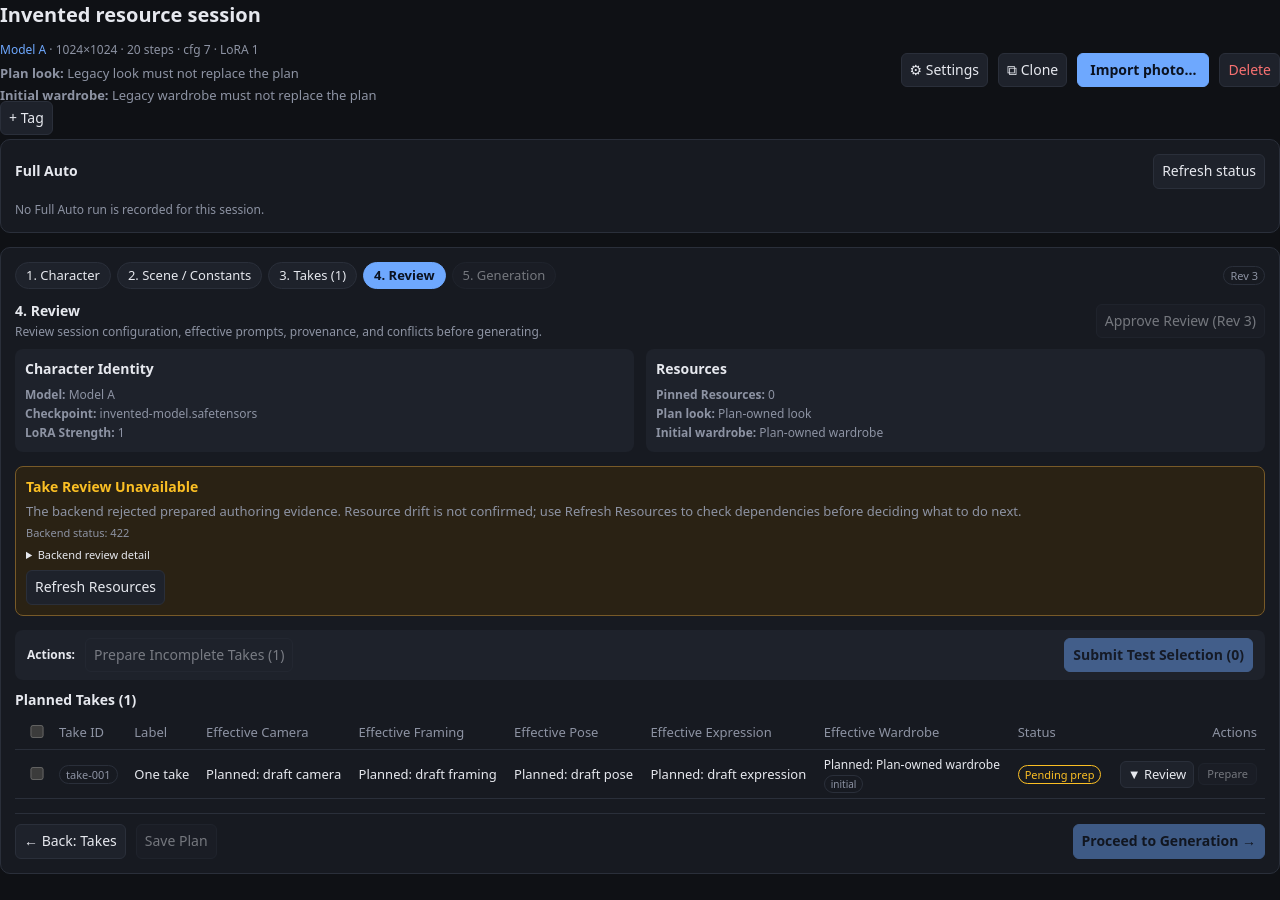
Test: Task 8.5 resource review presentation › checks dependencies only for confirmed invalid authoring evidence and keeps review gates closed
The width and height of the screenshot is (1280, 900).
Click the button "Refresh Resources" at [96, 588], box [26,570,165,605]
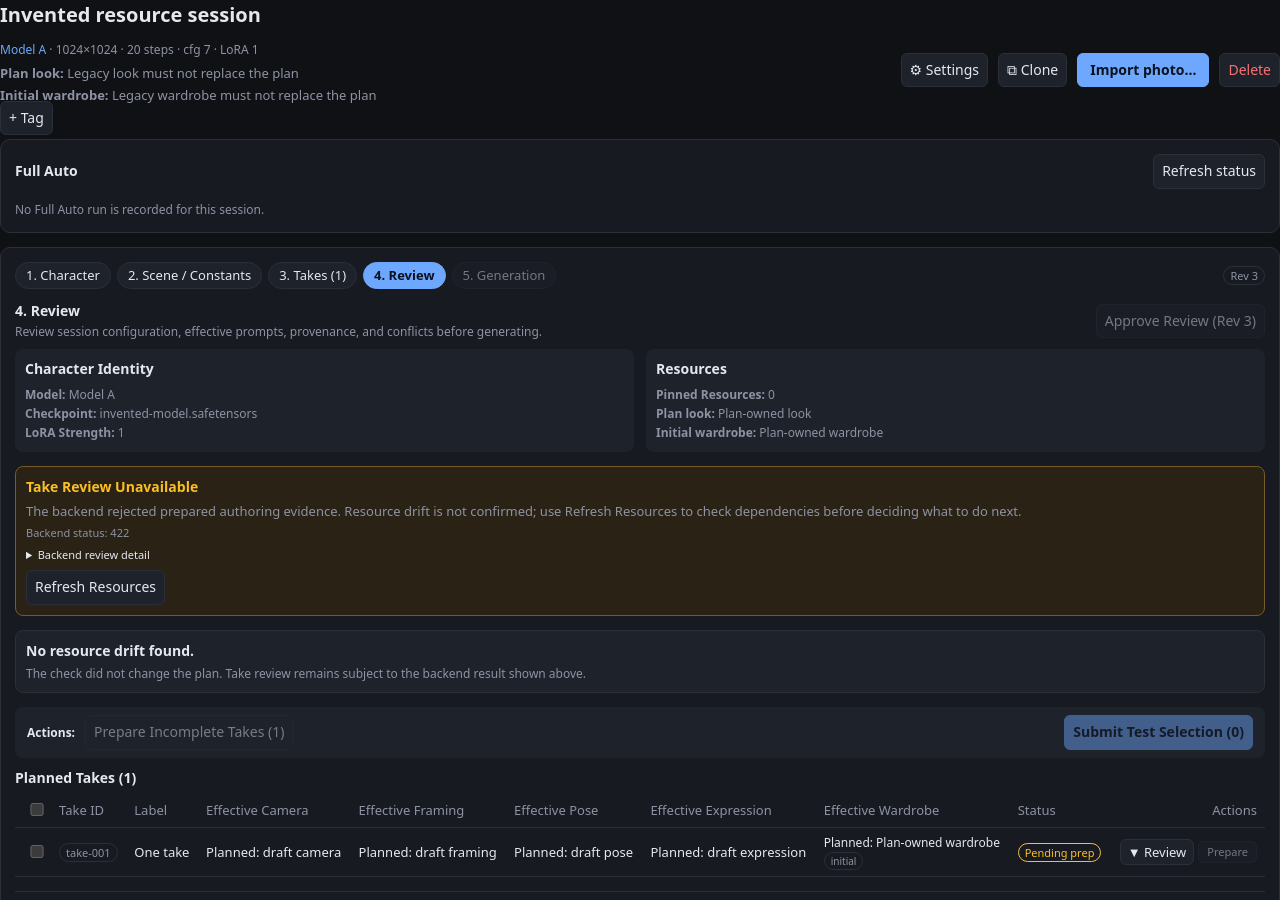
Expected: the button "Approve Review (Rev 3)" is disabled, [1096,304,1265,338]
Now the text "No resource drift found." is shown, box [26,641,194,660]
